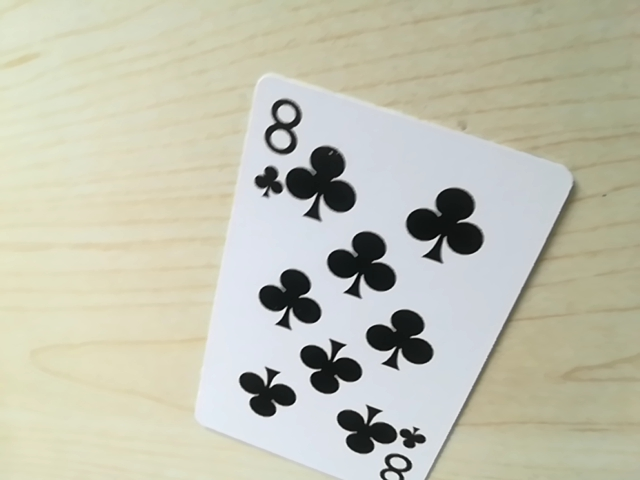mh 8: (246, 85, 309, 210), (369, 422, 442, 480)
